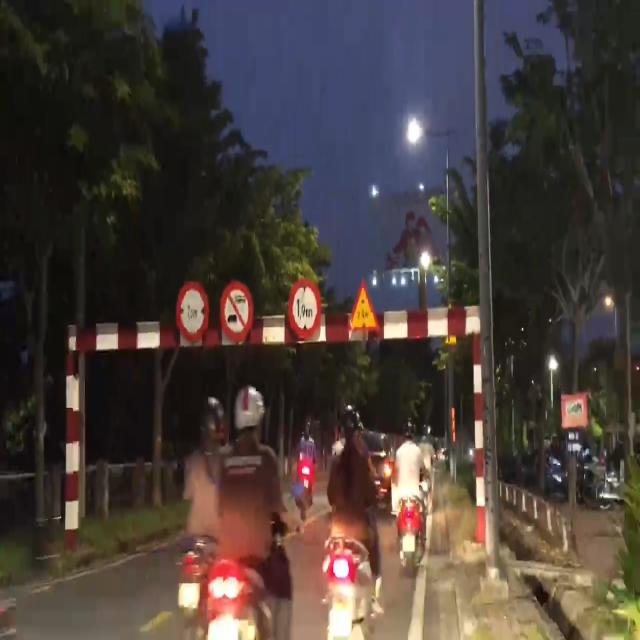Bien bao cam xe oto khach va xe oto tai: (217, 278, 256, 346)
Bien bao chieu cao tinh khong thuc te: (346, 273, 382, 334)
Bien bao han che chieu cao: (286, 275, 312, 331)
